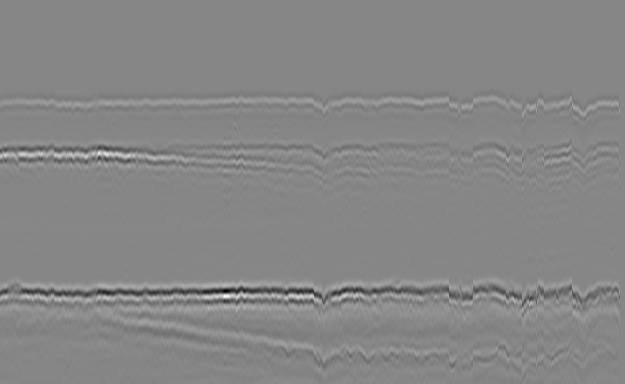fault: (448, 138, 482, 191), (309, 138, 339, 195), (443, 87, 478, 125), (570, 137, 596, 186), (567, 87, 593, 127), (309, 87, 332, 122)
